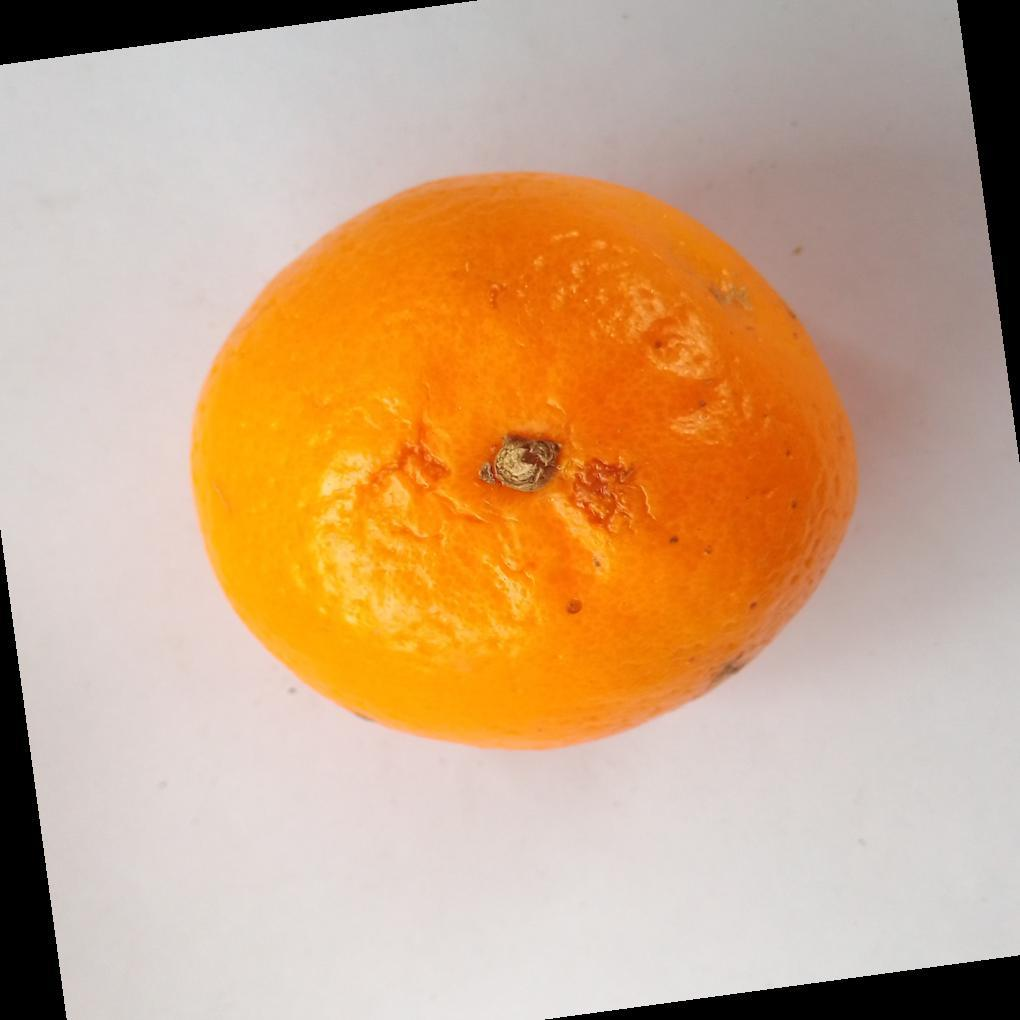FreshGuava: (188, 173, 860, 755)
